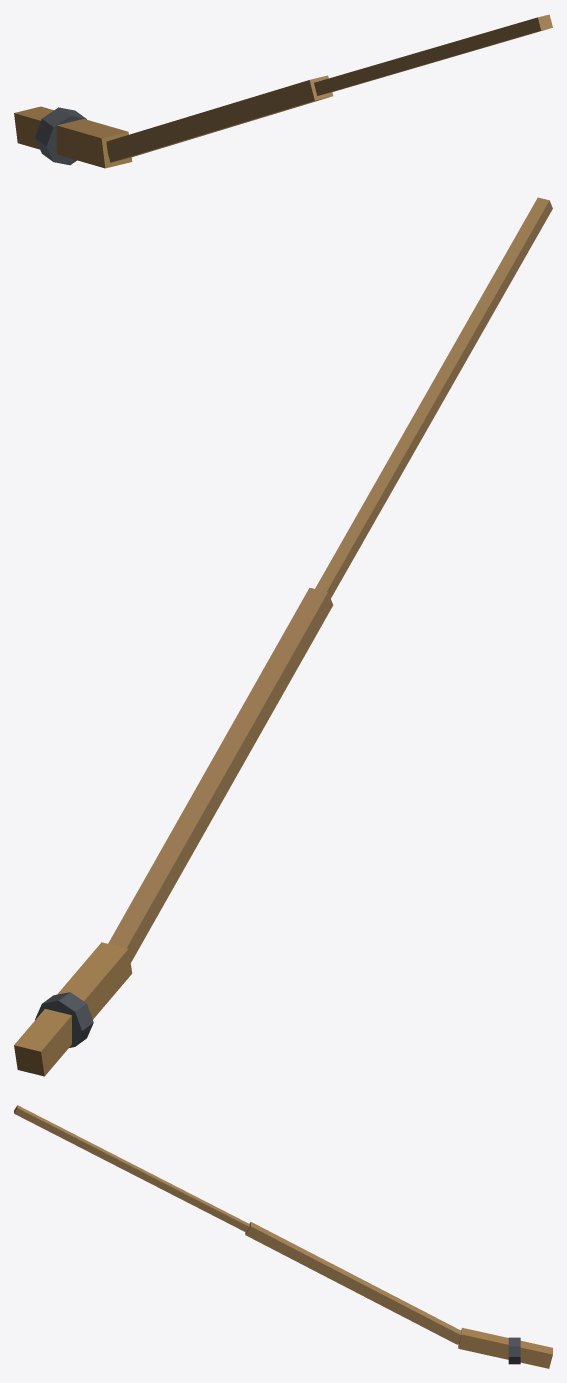
Rendered from fld_rod.glb.
3 views of the same model, one above another, from view 1: azimuth 30°, elevation 25°; view 2: azimuth 150°, elevation 25°; view 3: azimuth 270°, elevation 25° (orthographic). The views are drawn at different scales.
Visible parts, largest first — view 1: fld_rod; view 2: fld_rod; view 3: fld_rod.
Part boxes in pixels (left/top/right/bottom): fld_rod: left=14, top=14, right=552, bottom=168; fld_rod: left=14, top=197, right=552, bottom=1076; fld_rod: left=14, top=1105, right=552, bottom=1368.
Bounding box in the file's own units: 0.028 × 0.2828 × 0.5336.
